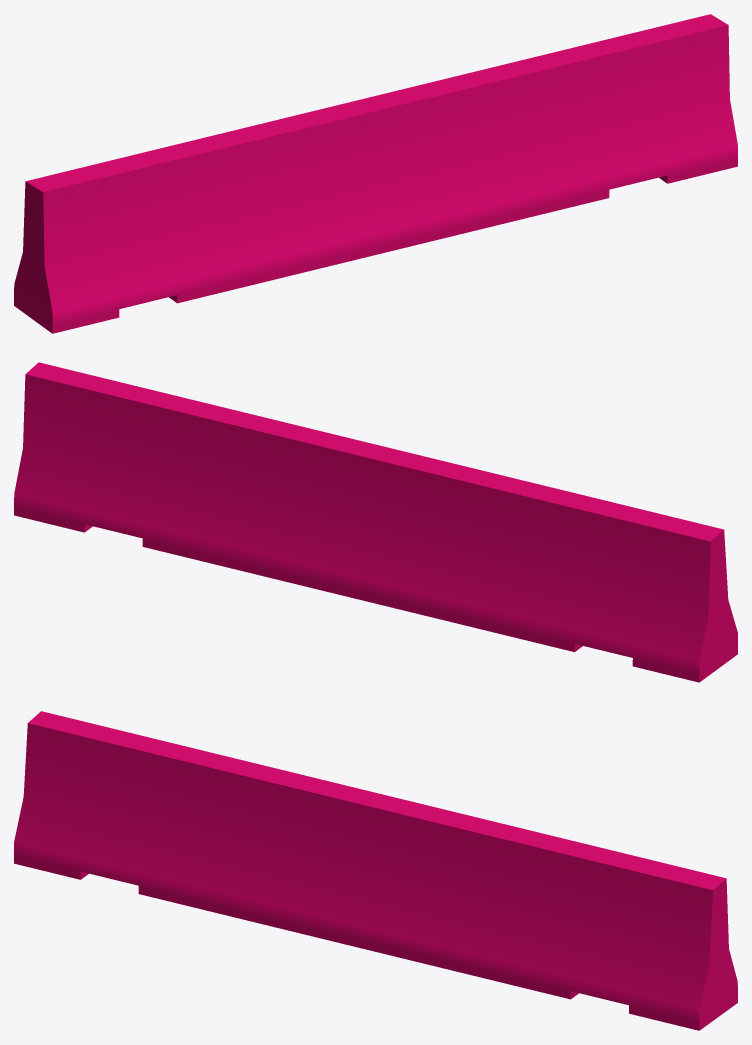
The model's file is Concrete_Blocker_03_Lod0.fbx.
3 views of the same model, one above another, from view 1: azimuth 30°, elevation 25°; view 2: azimuth 150°, elevation 25°; view 3: azimuth 330°, elevation 25° (orthographic).
Parts seen in each view (by area): view 1: Concrete_Blocker_03_Lod0; view 2: Concrete_Blocker_03_Lod0; view 3: Concrete_Blocker_03_Lod0.
Part boxes in pixels (box(x1,y1,x2,y2)): Concrete_Blocker_03_Lod0: box(14, 14, 737, 333); Concrete_Blocker_03_Lod0: box(14, 362, 737, 682); Concrete_Blocker_03_Lod0: box(14, 711, 737, 1030).
Bounding box in the file's own units: 302 × 55.65 × 29.33.
